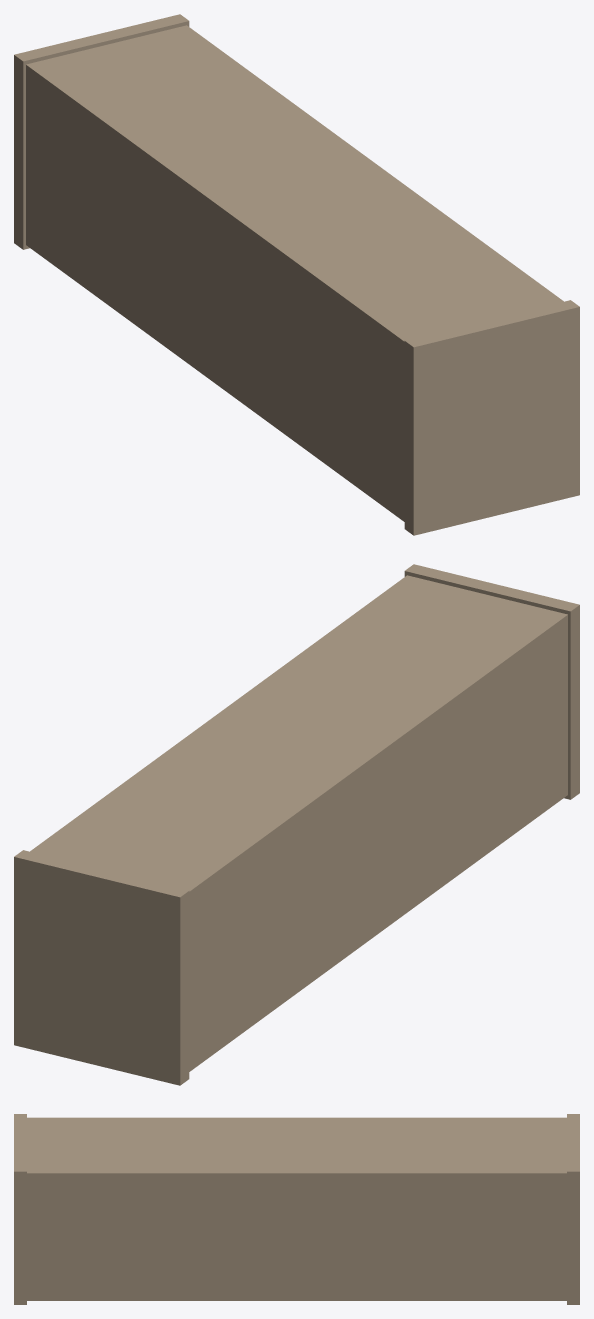
The model's file is ship_container3.fbx.
The picture shows the model from 3 angles, top to bottom: view 1: azimuth 30°, elevation 25°; view 2: azimuth 150°, elevation 25°; view 3: azimuth 270°, elevation 25°; orthographic projection. The views are drawn at different scales.
Visible parts, largest first — view 1: ship_container3; view 2: ship_container3; view 3: ship_container3.
Boxes of the visible parts, x1,y1,x2,y2 form: ship_container3: [14, 14, 579, 535]; ship_container3: [14, 564, 579, 1085]; ship_container3: [14, 1114, 579, 1304].
Size of the model in its own units: 240 by 260 by 1000.
